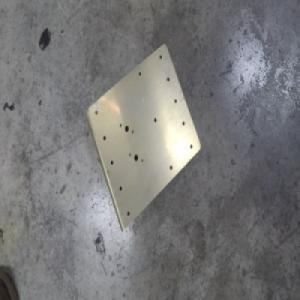MetalSheet: (83, 42, 201, 234)
